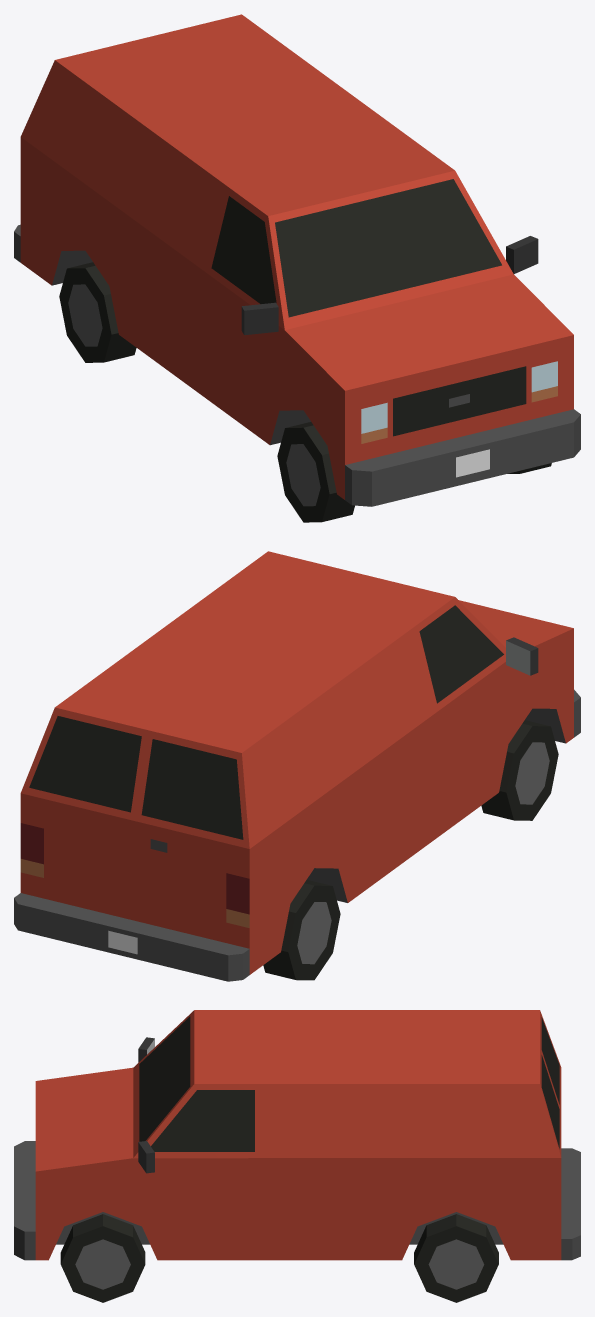
Rendered from Veh_Van_01_Red.glb.
3 views of the same model, one above another, from view 1: azimuth 30°, elevation 25°; view 2: azimuth 150°, elevation 25°; view 3: azimuth 270°, elevation 25° (orthographic). The views are drawn at different scales.
Visible parts, largest first — view 1: Van_01_Red, Wheel_FR, Wheel_RR; view 2: Van_01_Red, Wheel_RR, Wheel_FR; view 3: Van_01_Red, Wheel_FL, Wheel_RL.
Boxes of the visible parts, left/top/right/bottom form: Van_01_Red: left=14, top=14, right=580, bottom=506; Wheel_FR: left=277, top=422, right=354, bottom=522; Wheel_RR: left=59, top=262, right=136, bottom=362; Van_01_Red: left=14, top=551, right=580, bottom=981; Wheel_RR: left=263, top=879, right=340, bottom=980; Wheel_FR: left=481, top=720, right=558, bottom=820; Van_01_Red: left=14, top=1010, right=580, bottom=1260; Wheel_FL: left=60, top=1214, right=145, bottom=1302; Wheel_RL: left=414, top=1214, right=498, bottom=1302.
Bounding box in the file's own units: 1.38 × 1.16 × 2.84.
1 material, 1 textured.
